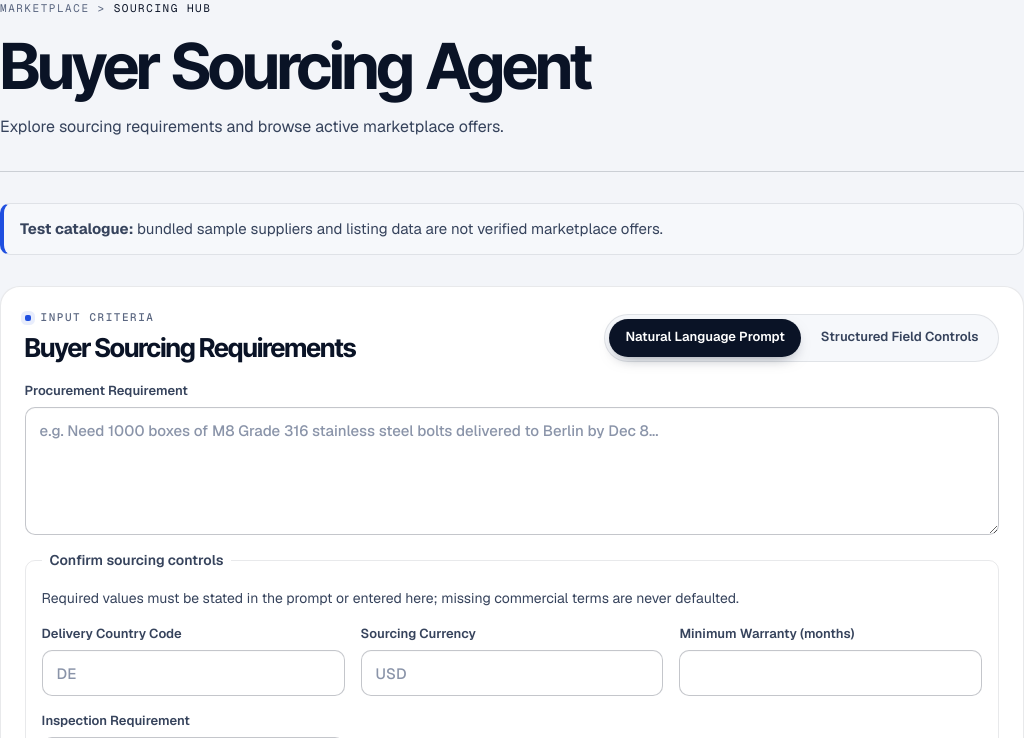
Test: SourcingHub Frontend Test Suite › Tier 1: UI Feature Coverage › 1.2 switches between natural language mode and structured field controls
The width and height of the screenshot is (1024, 738).
Click the button "Structured Field Controls".
click(900, 338)  # box [805,319,994,357]
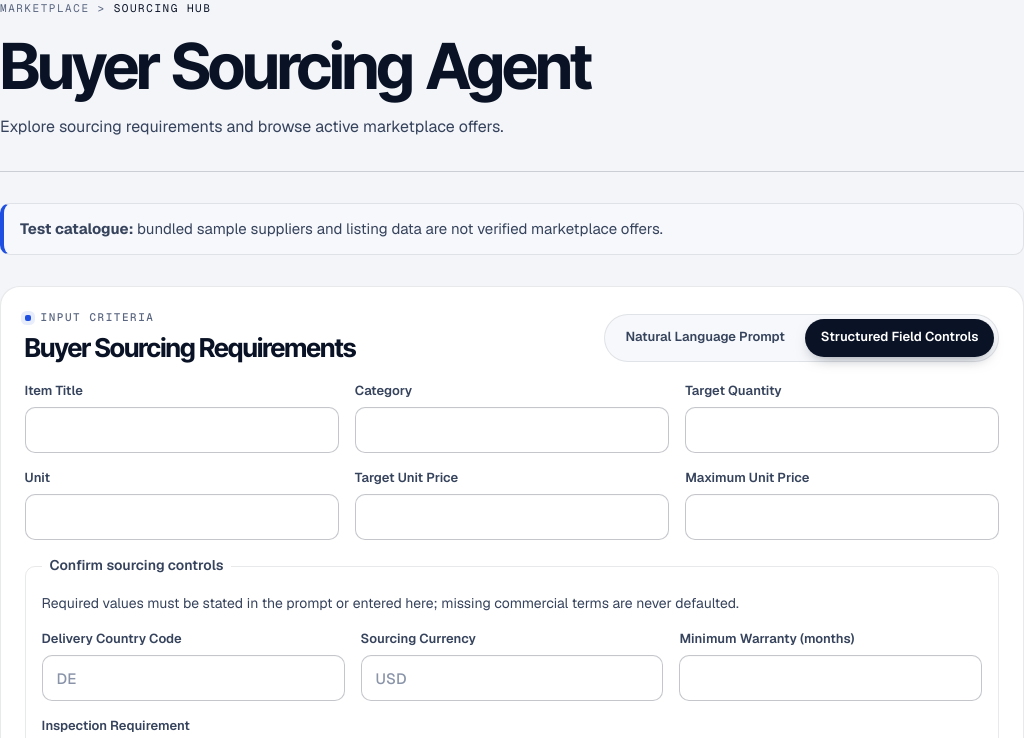
Expected: the field labelled "Item Title" is shown, [24,407,339,453]
Expected: the field labelled "Target Quantity" is shown, [685,407,999,453]
Expected: the field labelled "Maximum Unit Price" is shown, [685,494,999,540]
Click the button "Natural Language Prompt".
click(705, 338)  # box [609,319,801,357]
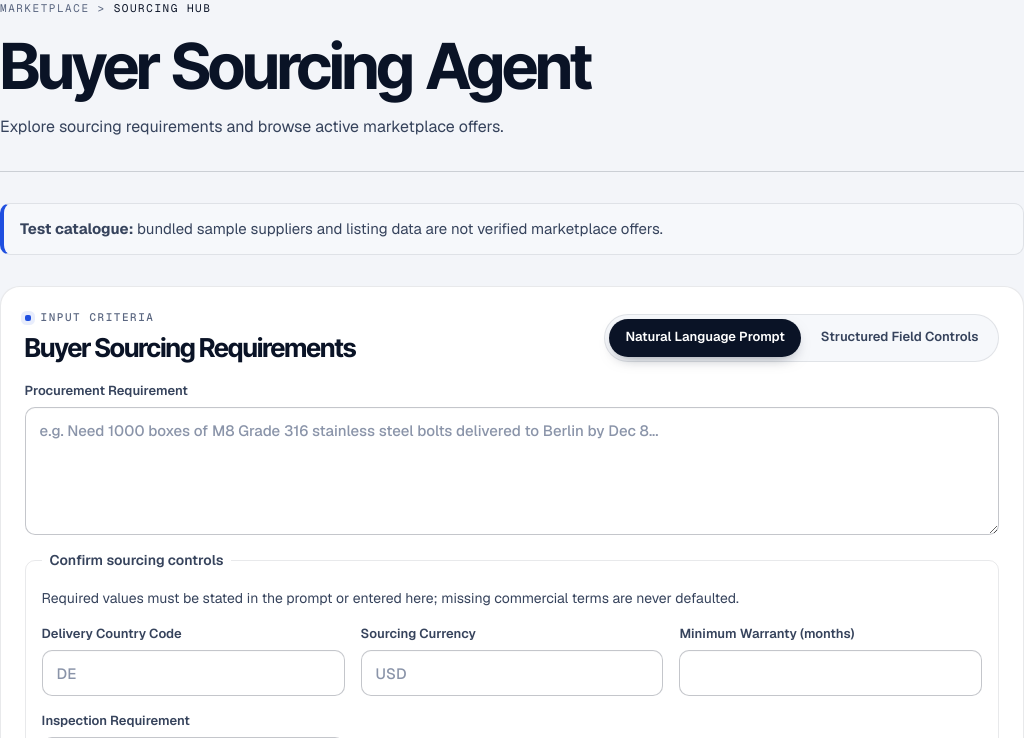
Expected: the text box labelled "Procurement Requirement" is shown, [24,407,999,535]
